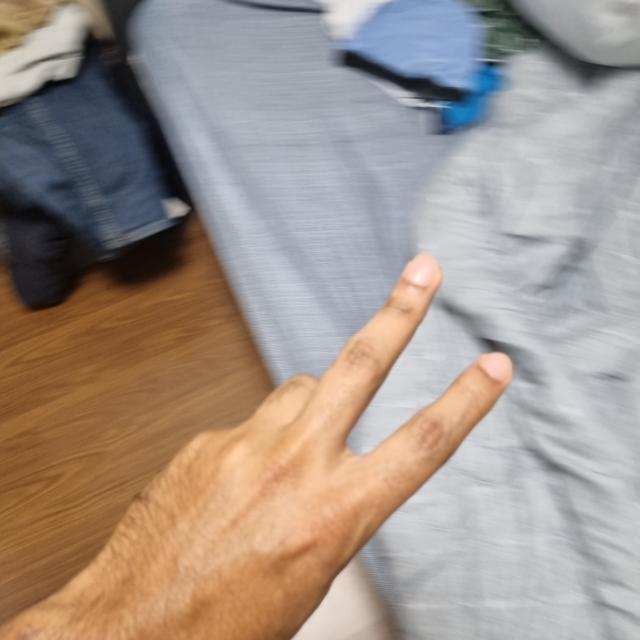Scissors: (7, 255, 507, 638)
